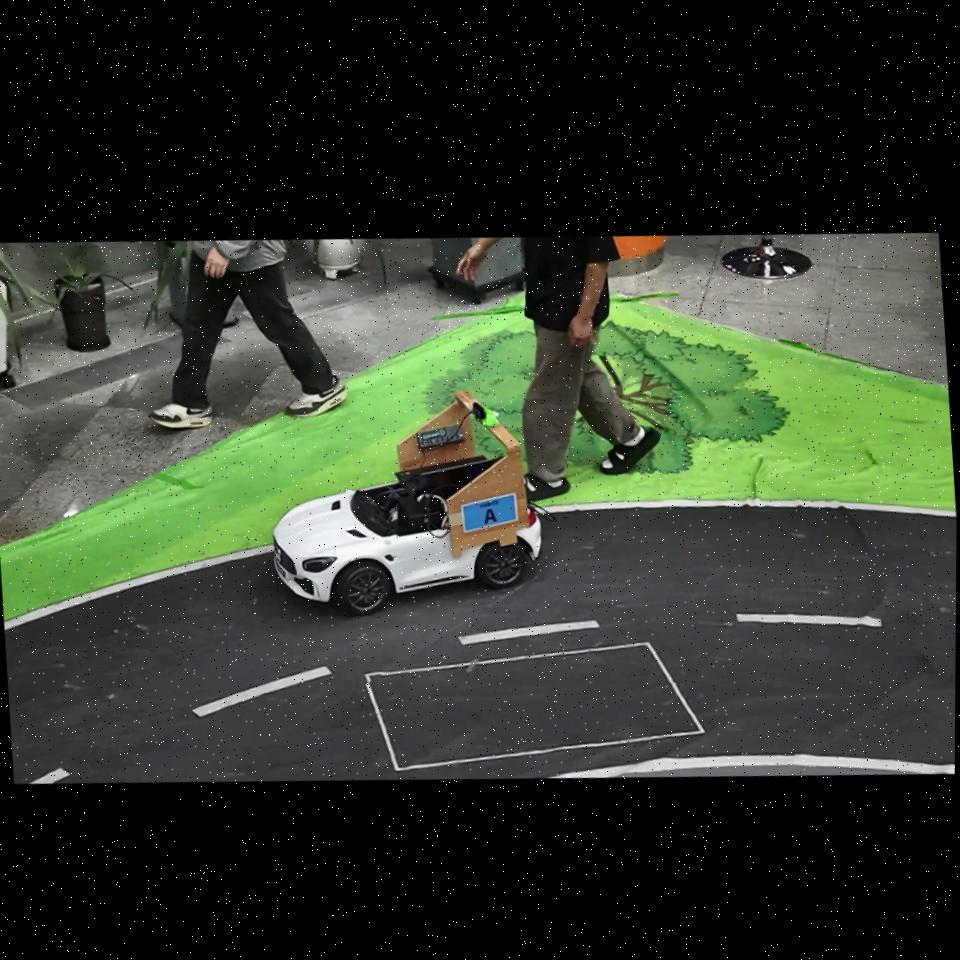broken_line: (193, 666, 334, 716), (459, 620, 599, 645), (736, 614, 882, 627), (30, 768, 69, 783)
